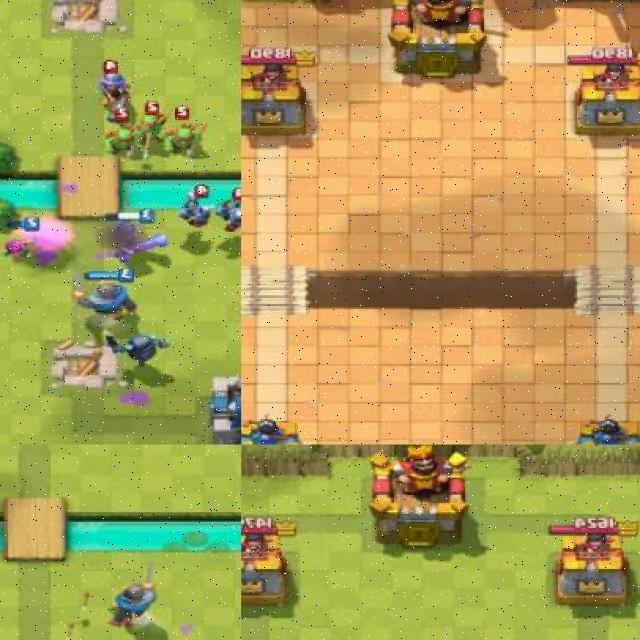Enemy-Minion: (175, 183, 218, 232), (211, 186, 241, 235)
Enemy-Musketeer: (96, 58, 134, 114)
Enemy-SpearGoblin: (160, 104, 209, 161), (100, 108, 143, 160), (132, 102, 166, 149)
Player-Archer: (0, 214, 41, 266)
Player-Knight: (102, 558, 163, 631), (70, 267, 141, 323)
Player-MiniPEKKA: (102, 330, 174, 370)
Player-Musketeer: (100, 207, 171, 264)
